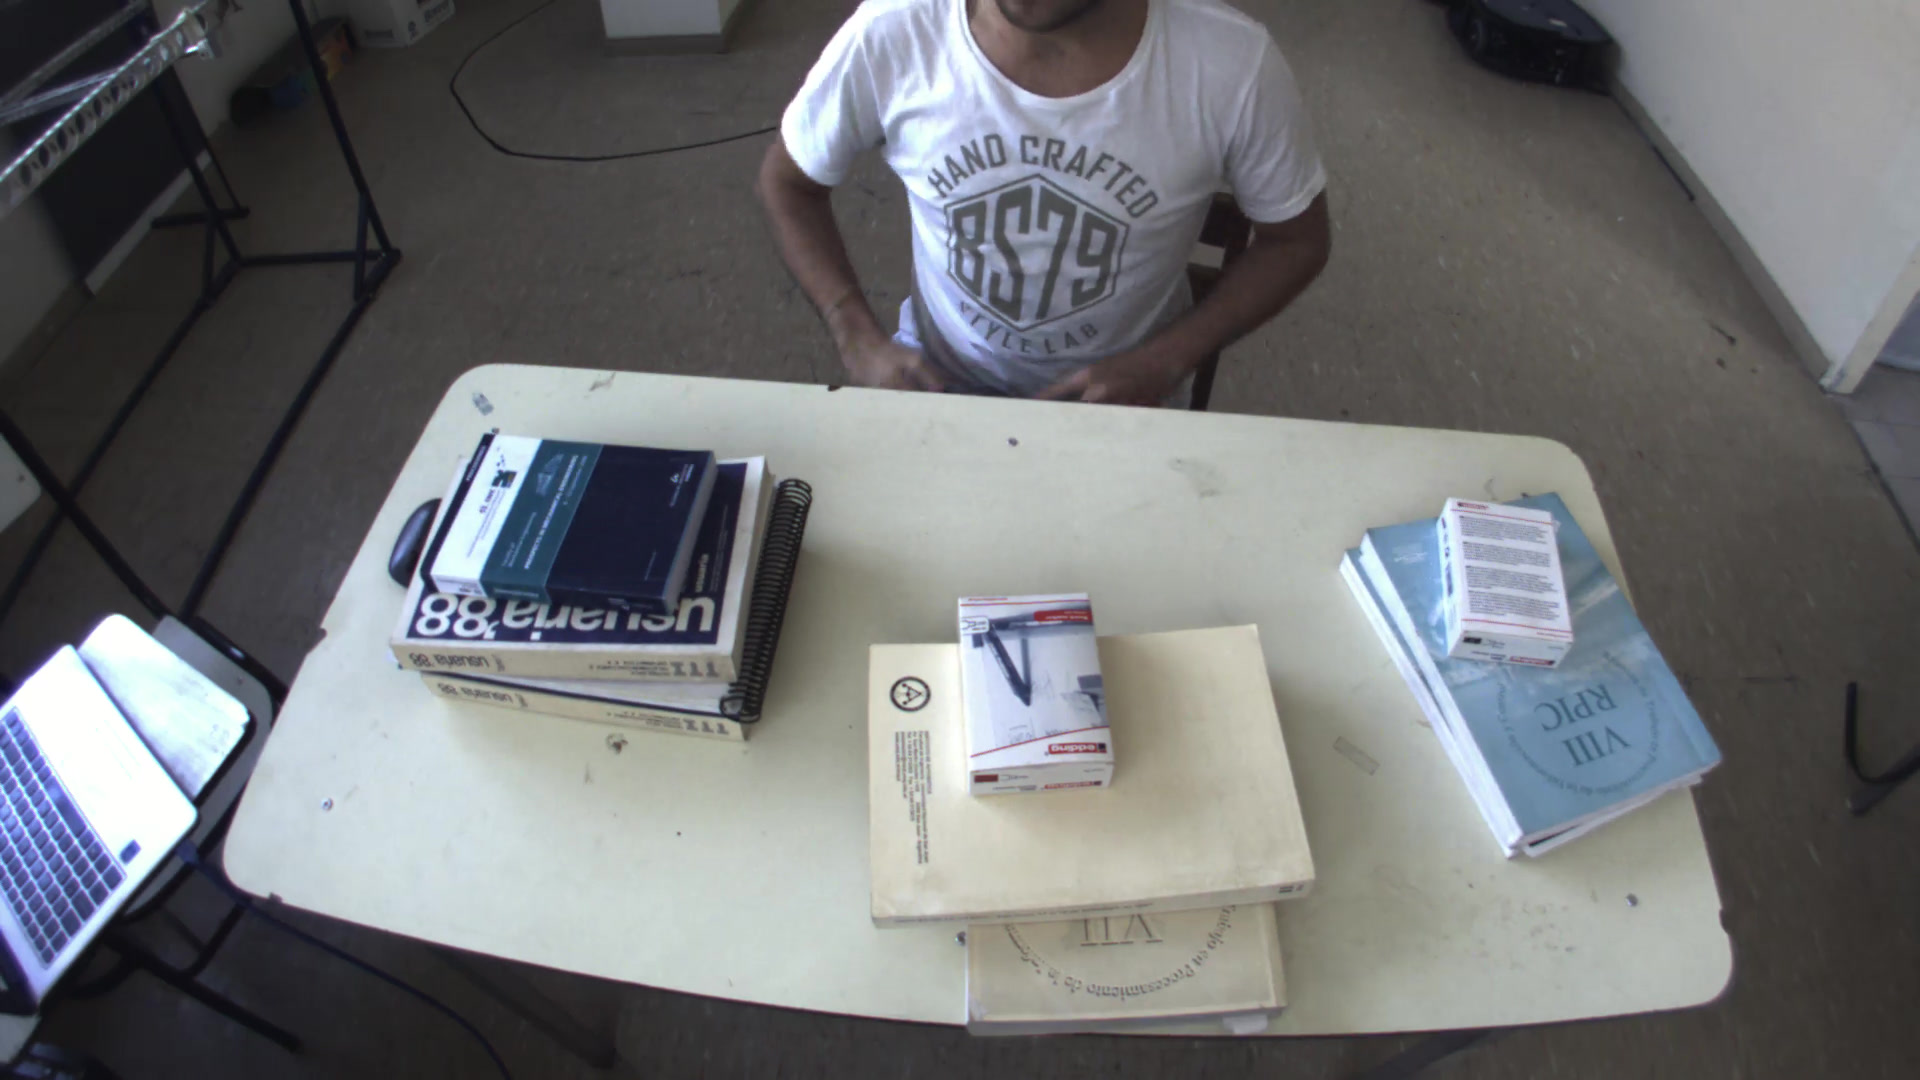hand: (825, 303, 945, 404)
